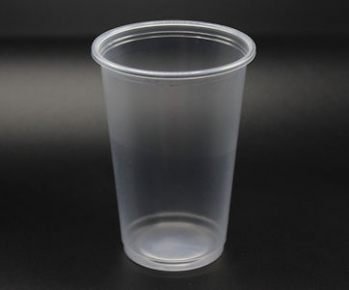plastic_glass: (87, 16, 258, 277)
